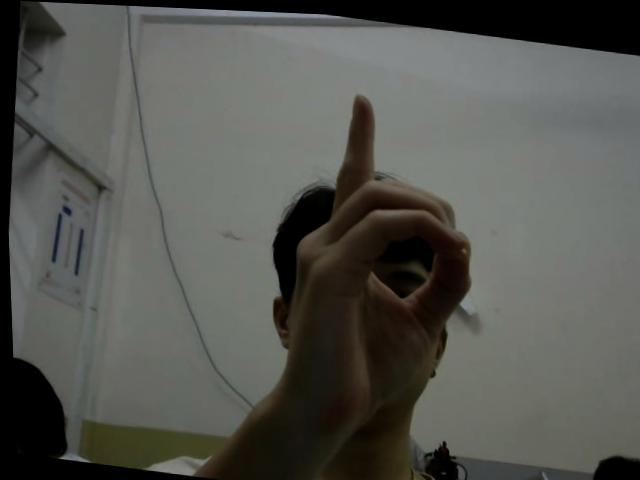D: (270, 78, 490, 435)
